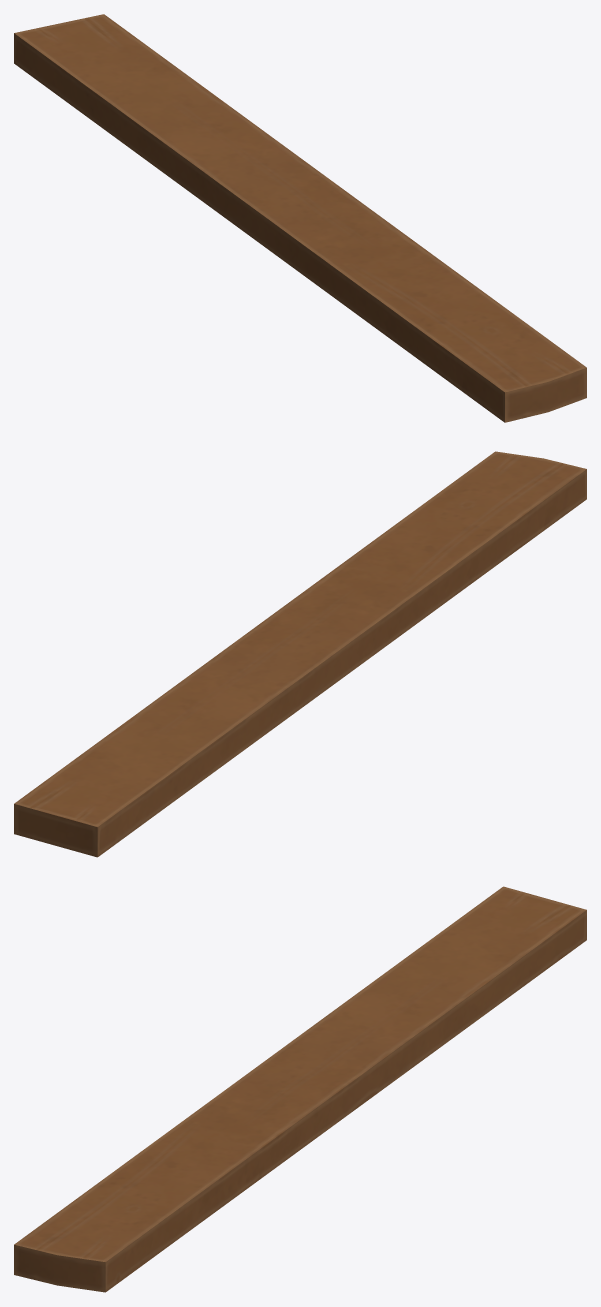
Rendered from SM_Props_Wood_03.glb.
The picture shows the model from 3 angles, top to bottom: view 1: azimuth 30°, elevation 25°; view 2: azimuth 150°, elevation 25°; view 3: azimuth 330°, elevation 25°; orthographic projection.
Visible parts, largest first — view 1: SM_Props_Wood_03; view 2: SM_Props_Wood_03; view 3: SM_Props_Wood_03.
Part boxes in pixels (<box>): SM_Props_Wood_03: <box>14,14,586,422</box>; SM_Props_Wood_03: <box>14,451,586,857</box>; SM_Props_Wood_03: <box>14,886,586,1292</box>.
Size of the model in its own units: 0.2099 by 0.0701 by 2.05.
1 material, 1 textured.
